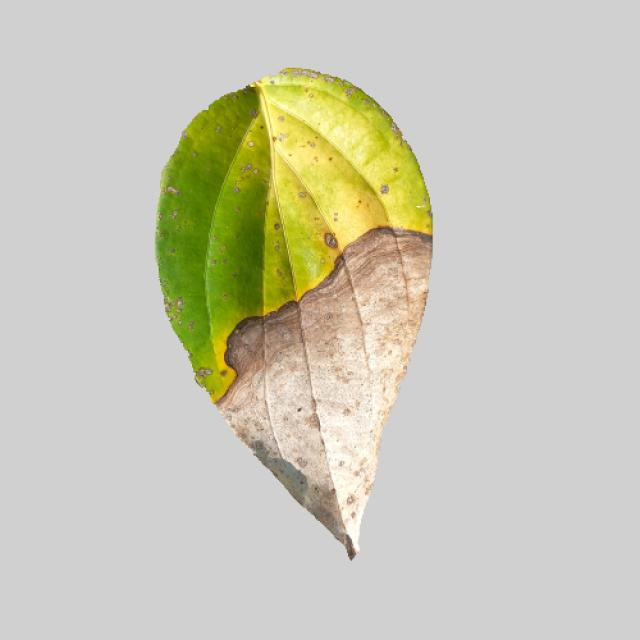leaf-blight: (125, 72, 447, 564)
